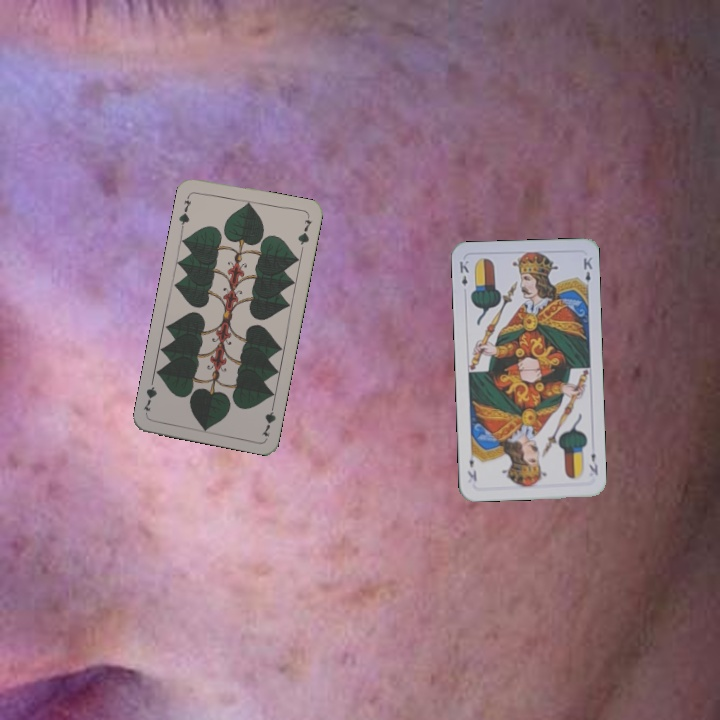EK: (455, 256, 471, 289), (585, 449, 600, 477)
G7: (258, 399, 278, 439), (175, 191, 194, 231)
